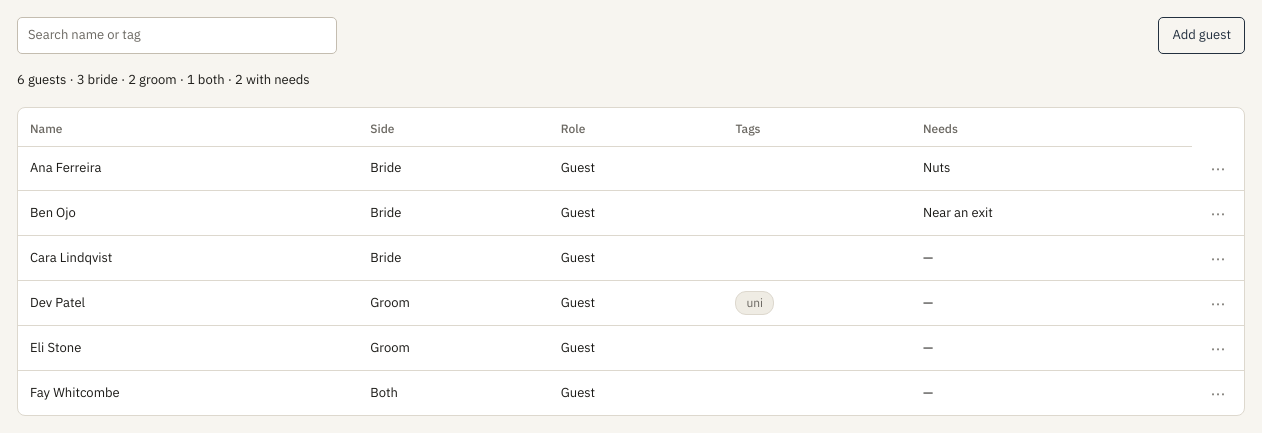
Test: search (C23) › filters to the row matching a name substring, case-insensitively
Type "ANA" into the field labelled "Search name or tag".
click(177, 35); type("ANA")  # box [17,17,337,54]
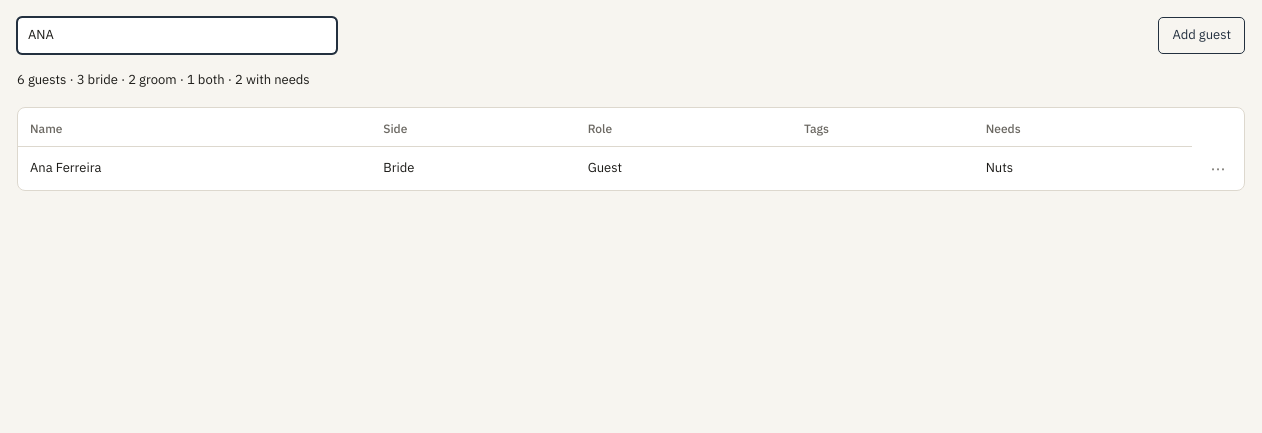
Check: the text "Ana Ferreira" is shown, box [18,146,371,190]
Check: the text "Ben Ojo" is gone
Check: the text "Dev Patel" is gone
